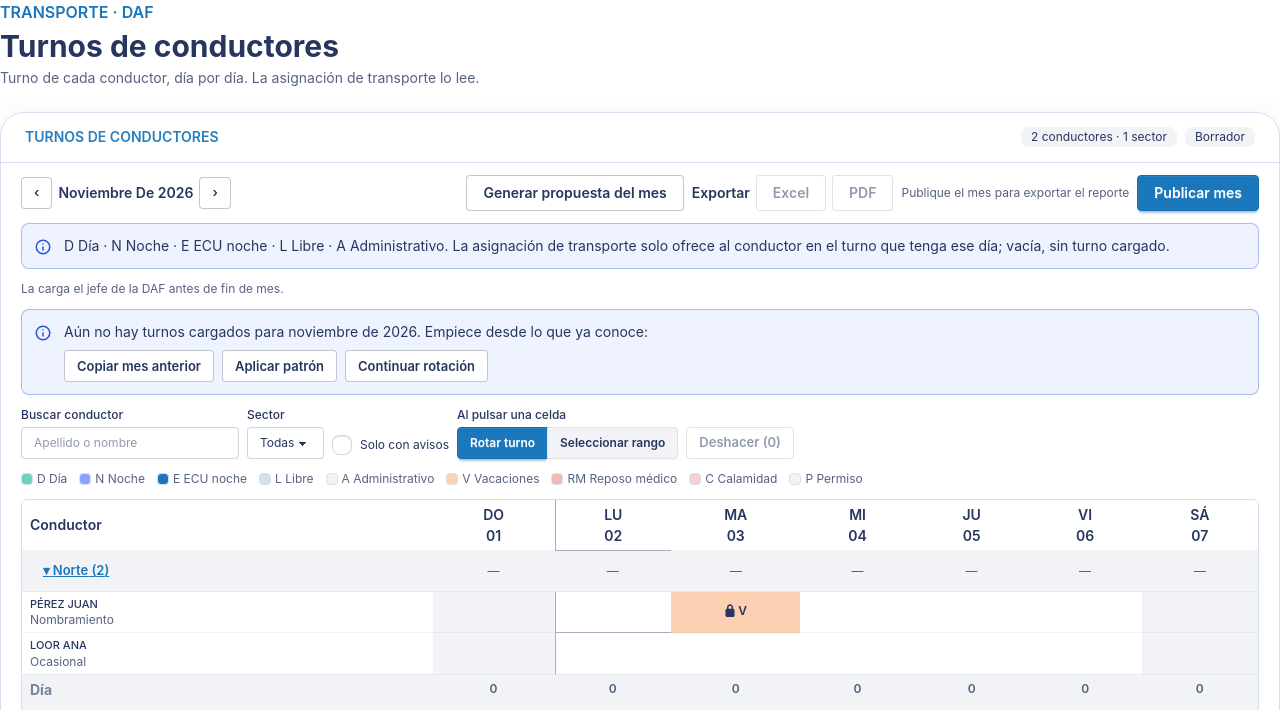
Test: Turnos de conductores › publicar con celdas vacías pide confirmación antes de escribir
Click the button "Publicar mes" at [1198, 193], box x1=1137 y1=175 x2=1259 y2=211
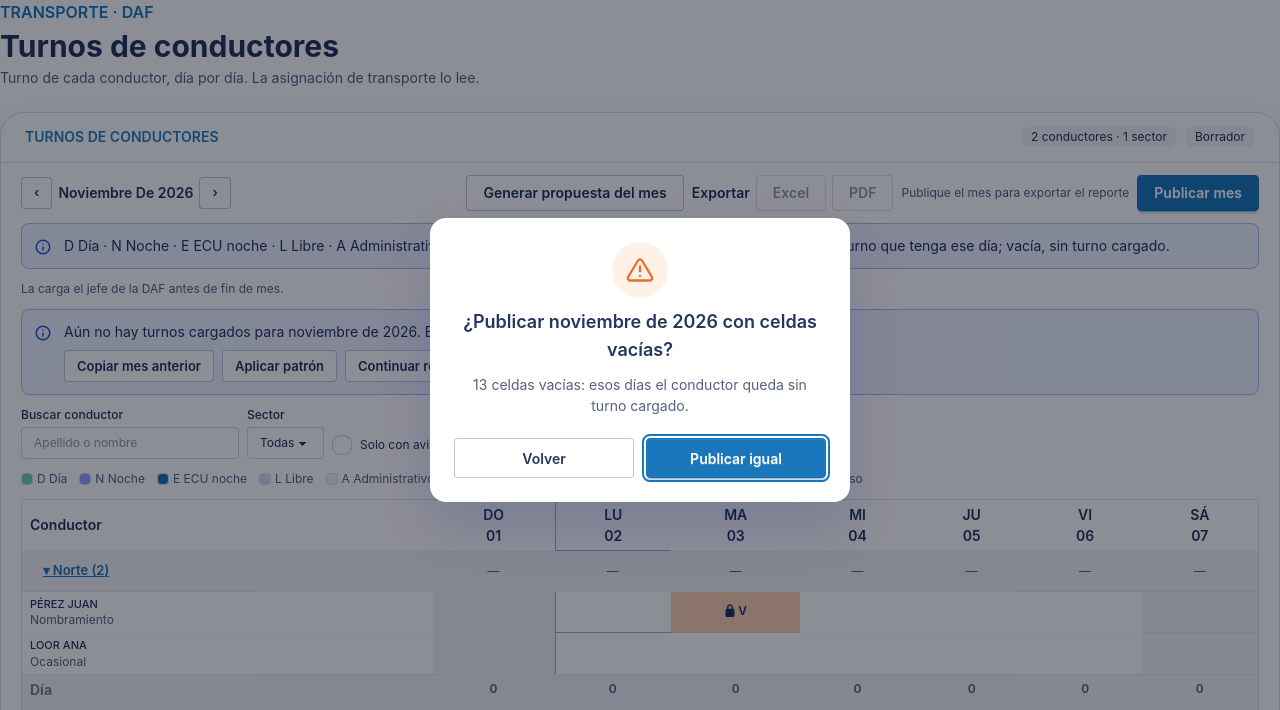
Result: the text "esos días el conductor queda sin turno cargado" is shown at x1=473 y1=376 x2=807 y2=414
Click the button "Publicar igual" at [736, 458], box x1=646 y1=438 x2=826 y2=478
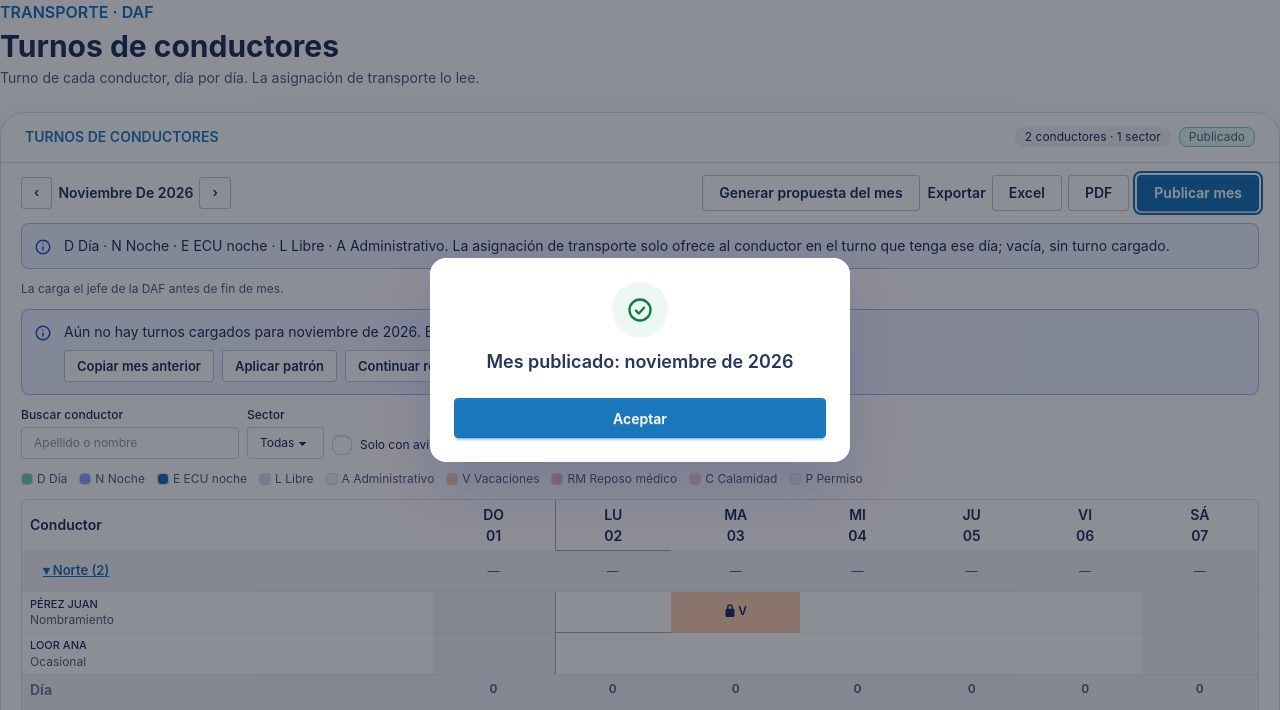
# Publicar el mes es un HITO (M7): modal de éxito con [Aceptar].
Click the button "Aceptar" at [640, 418], box x1=454 y1=398 x2=826 y2=438
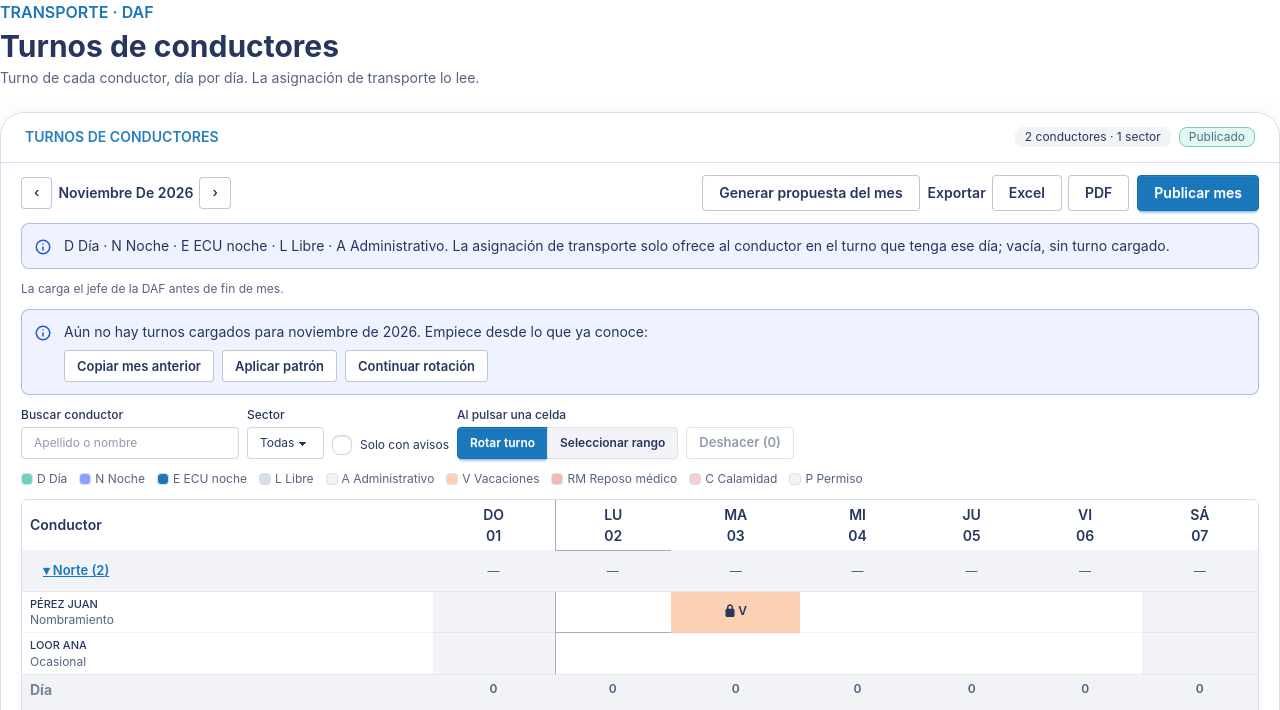
Result: the dialog is gone
